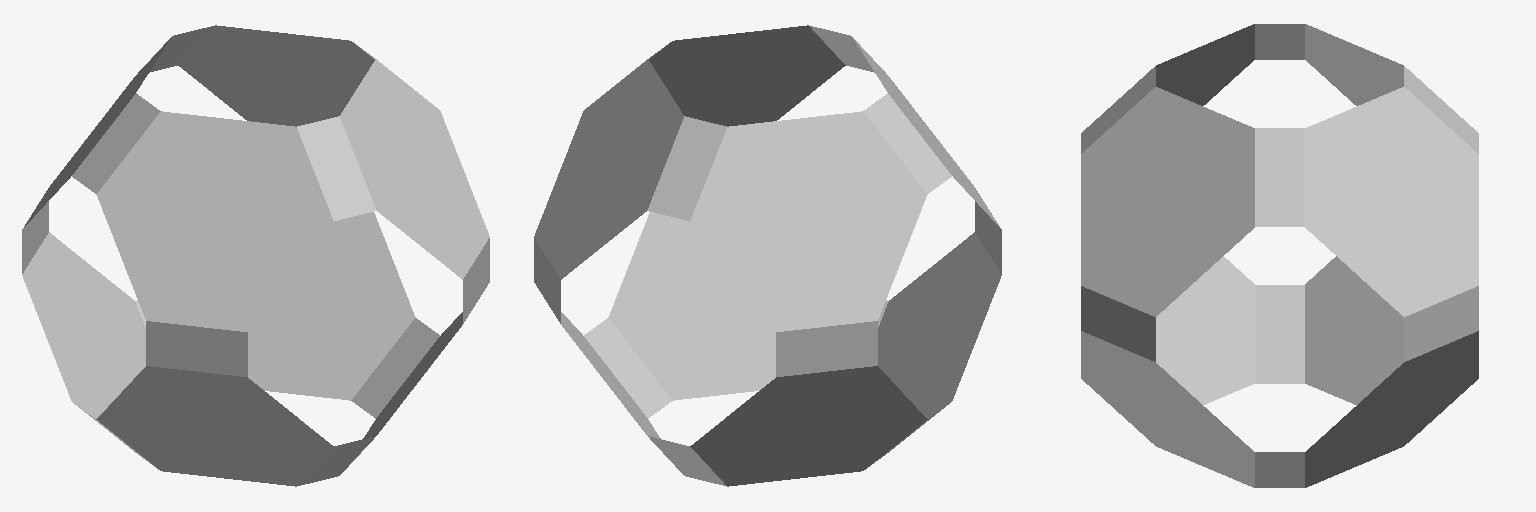
File: cuba.obj
The picture shows the model from 3 angles: view 1: azimuth 30°, elevation 25°; view 2: azimuth 150°, elevation 25°; view 3: azimuth 270°, elevation 25°; orthographic projection.
Visible parts, largest first — view 1: cuba, cuba.001; view 2: cuba, cuba.001; view 3: cuba, cuba.001.
Part boxes in pixels (x1,y1,x2,y2): cuba: (22, 25, 489, 486); cuba.001: (22, 25, 489, 486); cuba: (534, 25, 1001, 486); cuba.001: (534, 26, 1001, 485); cuba: (1081, 24, 1478, 487); cuba.001: (1081, 24, 1478, 487).
Size of the model in its own units: 1.6 by 1.6 by 1.6.